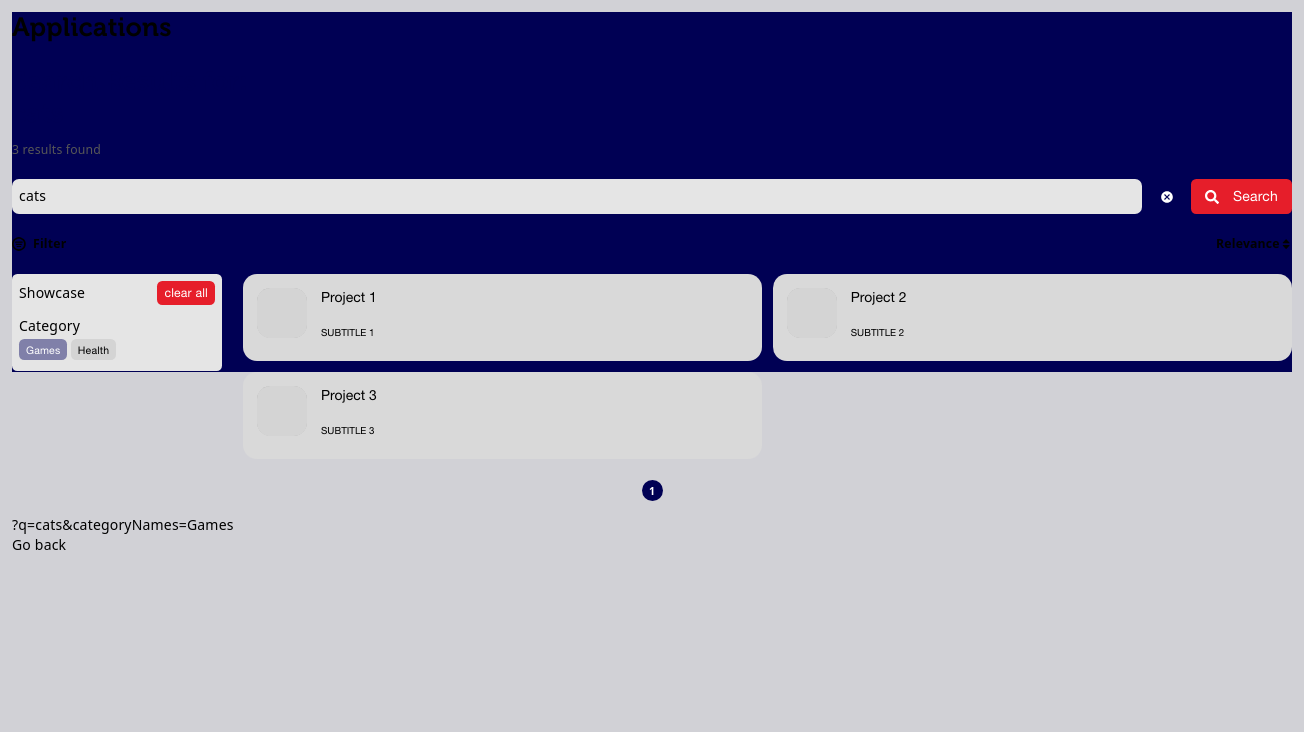
SearchResultsPage › searching › clears the search, but not the filters, with the cancel button
Expected: the text "3 results found" is shown, left=12, top=141, right=101, bottom=158
# the cancel button is the only one without a name
Click the 1st button. click: (1167, 197)
box: left=1149, top=179, right=1184, bottom=214
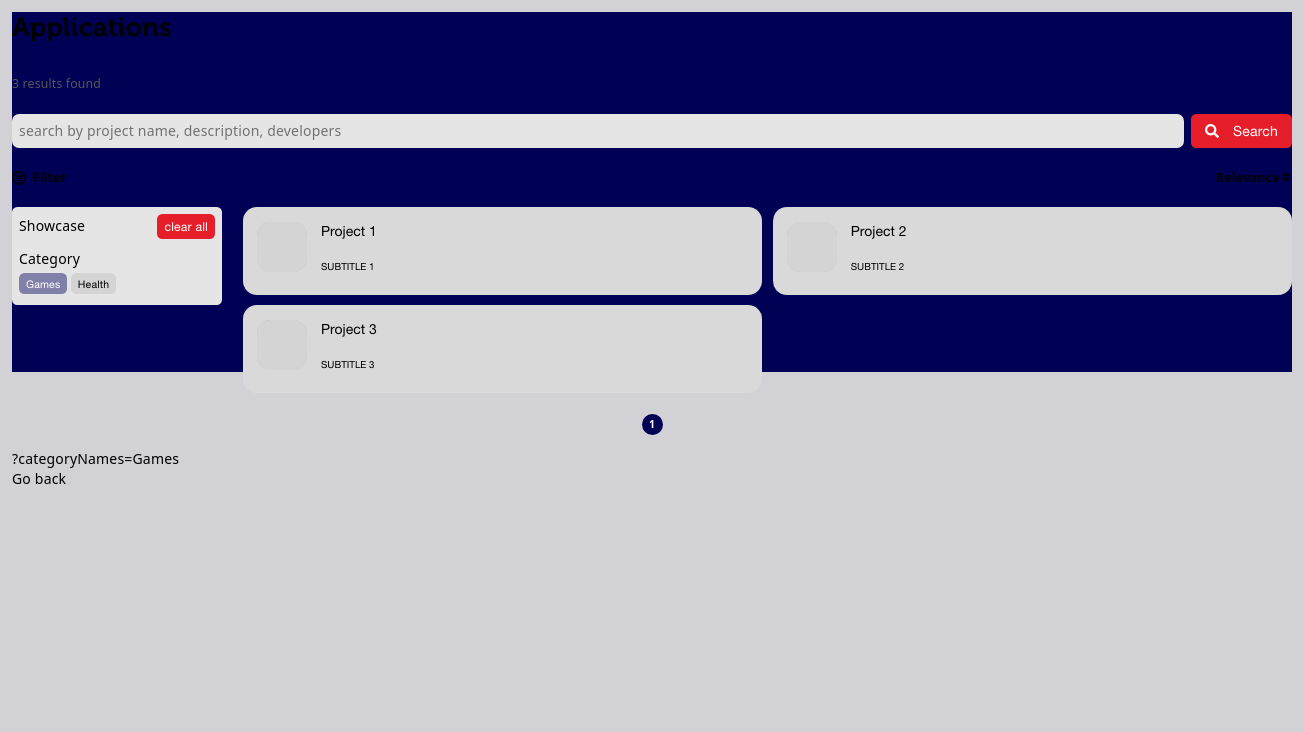
Expected: the text with test id "location" reads "?categoryNames=Games", left=12, top=449, right=179, bottom=468
Expected: the field is empty, left=12, top=114, right=1184, bottom=148
